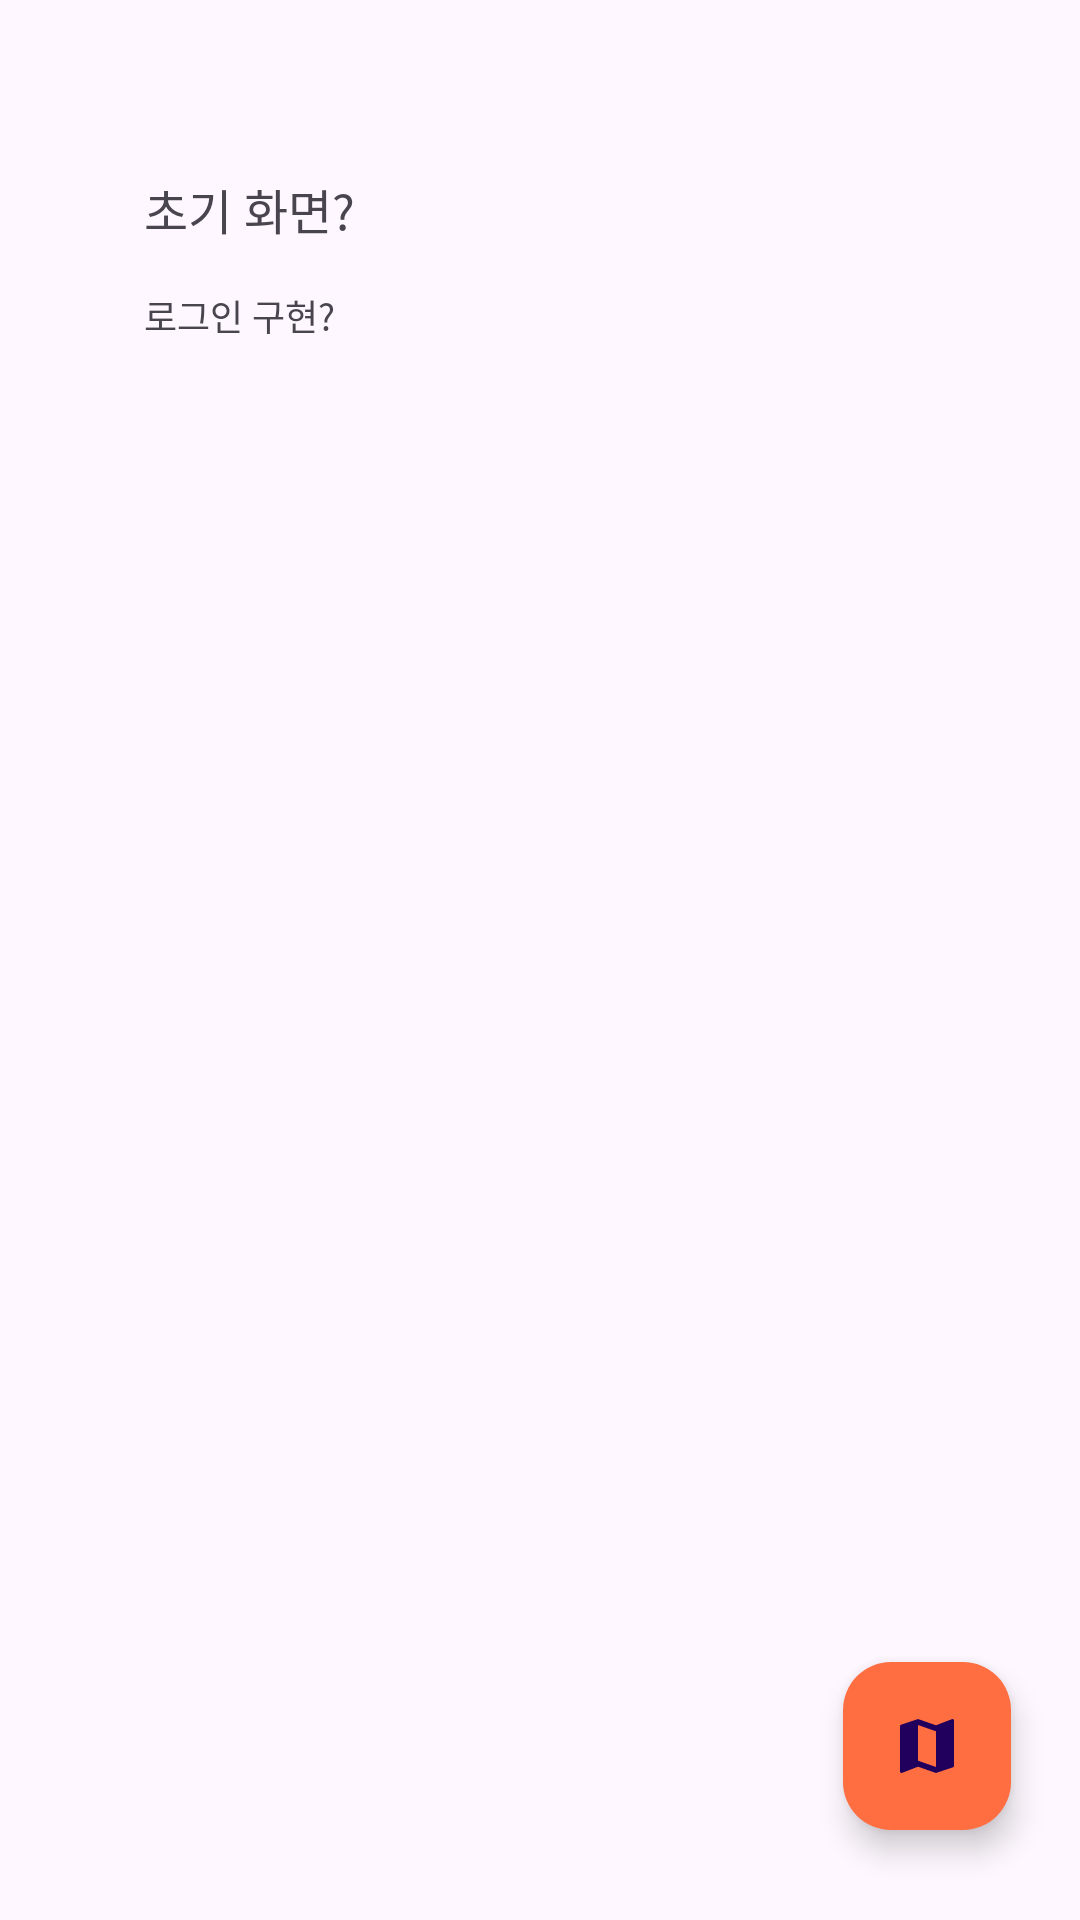

Screen size 1080px×1920px. Icon name, then its center in pixels as [x,y]:
map: [927,1746]
